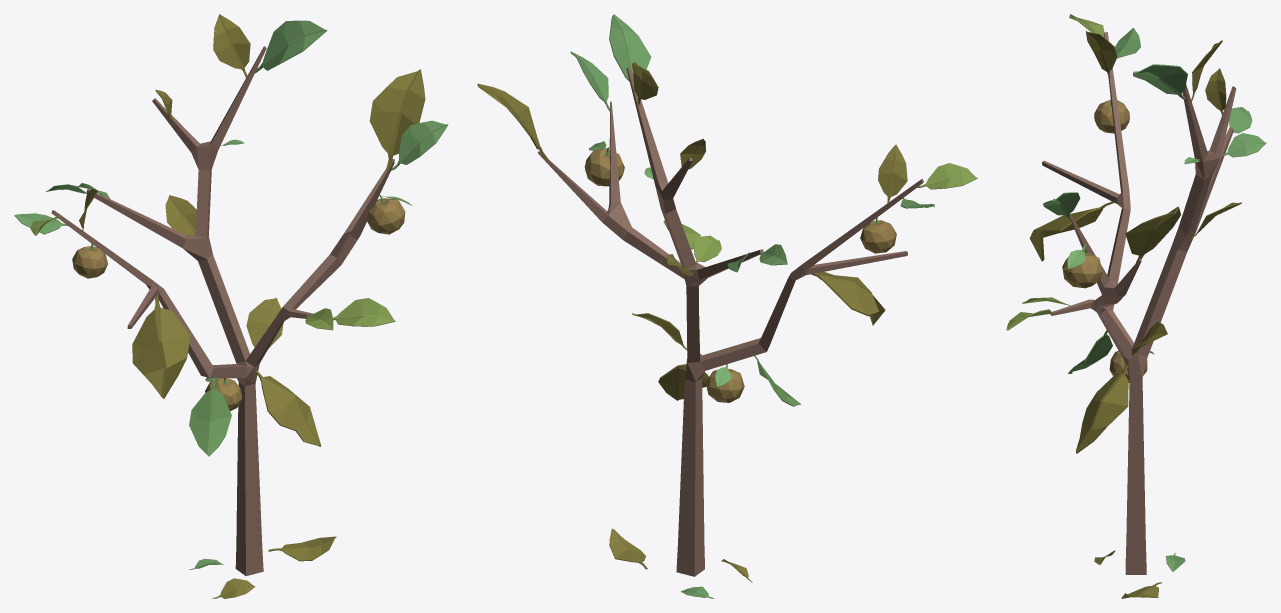
The model's file is JerukTahap4.fbx.
The picture shows the model from 3 angles, left to right: view 1: azimuth 30°, elevation 25°; view 2: azimuth 150°, elevation 25°; view 3: azimuth 270°, elevation 25°; orthographic projection. The views are drawn at different scales.
Visible parts, largest first — view 1: jeruk4.002; view 2: jeruk4.002; view 3: jeruk4.002.
Boxes of the visible parts, <box> form: jeruk4.002: <box>14,14,448,598</box>; jeruk4.002: <box>477,14,977,598</box>; jeruk4.002: <box>1006,14,1266,598</box>.
Bounding box in the file's own units: 77.22 × 90.34 × 38.81.
